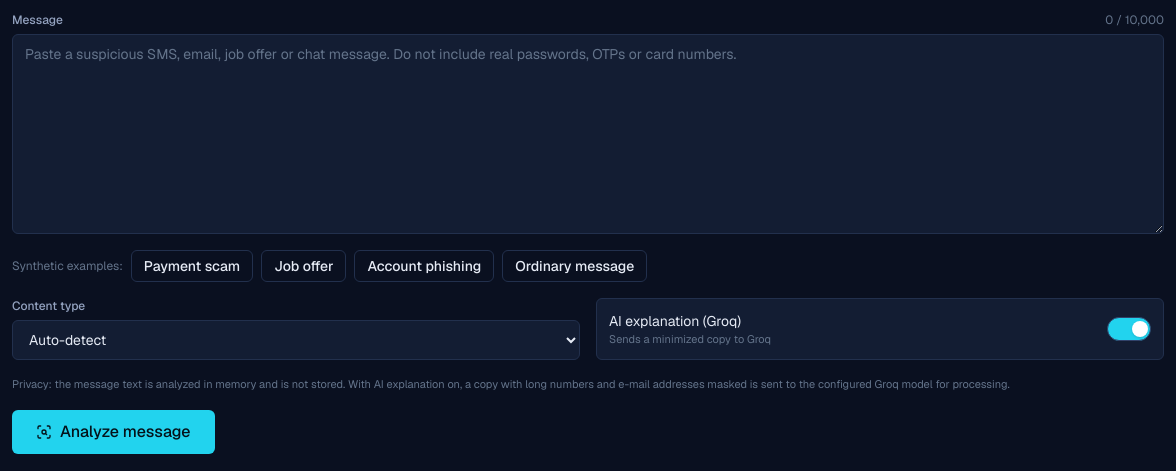
MessageForm validation › explains what is sent to the LLM provider
The image size is (1176, 471).
expect the text "sent to the configured Groq model" is shown: met, box [348,377,1010,391]
Click the switch named "ai explanation" at (1129, 329), box [1107,317,1151,341]
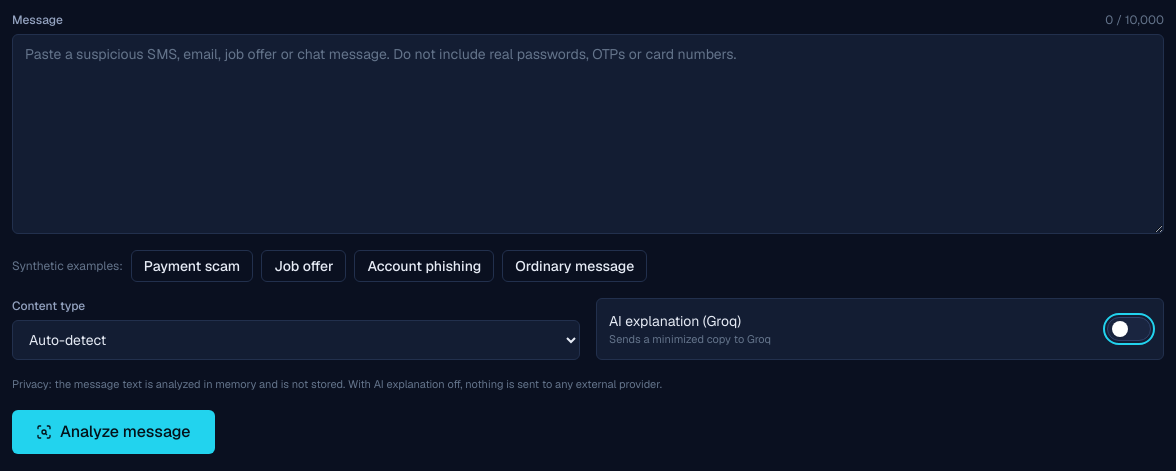
expect the text "nothing is sent to any external provider" is shown: met, box [348,377,662,391]
